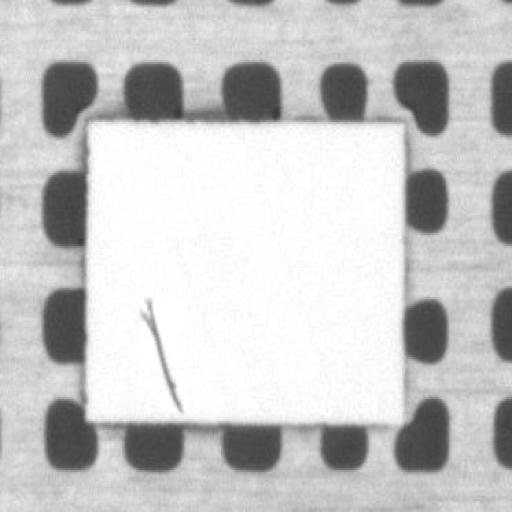DIE_INK: (178, 220, 248, 313)
